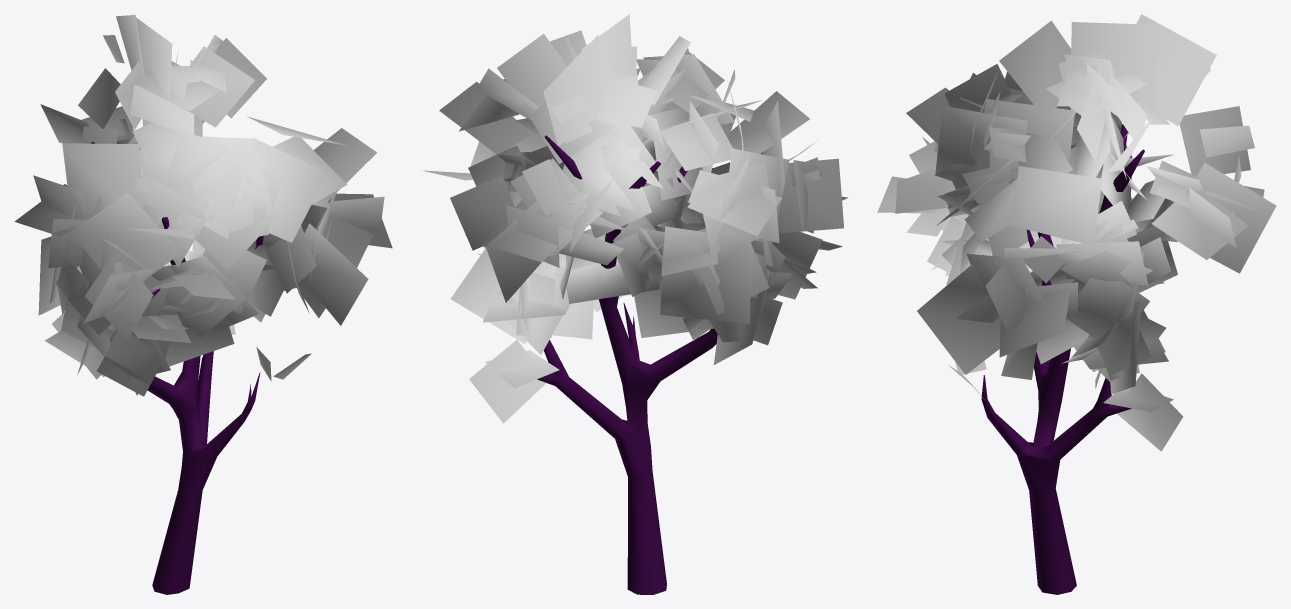
Rendered from m_TreeSmall2_LOD2.fbx.
The picture shows the model from 3 angles, left to right: view 1: azimuth 30°, elevation 25°; view 2: azimuth 150°, elevation 25°; view 3: azimuth 270°, elevation 25°; orthographic projection. The views are drawn at different scales.
Visible parts, largest first — view 1: TreeSmall2_LOD2; view 2: TreeSmall2_LOD2; view 3: TreeSmall2_LOD2.
Part boxes in pixels (left/top/right/bottom): TreeSmall2_LOD2: left=14, top=14, right=392, bottom=594; TreeSmall2_LOD2: left=421, top=14, right=847, bottom=594; TreeSmall2_LOD2: left=877, top=14, right=1276, bottom=594.
Size of the model in its own units: 730 by 1105 by 696.
